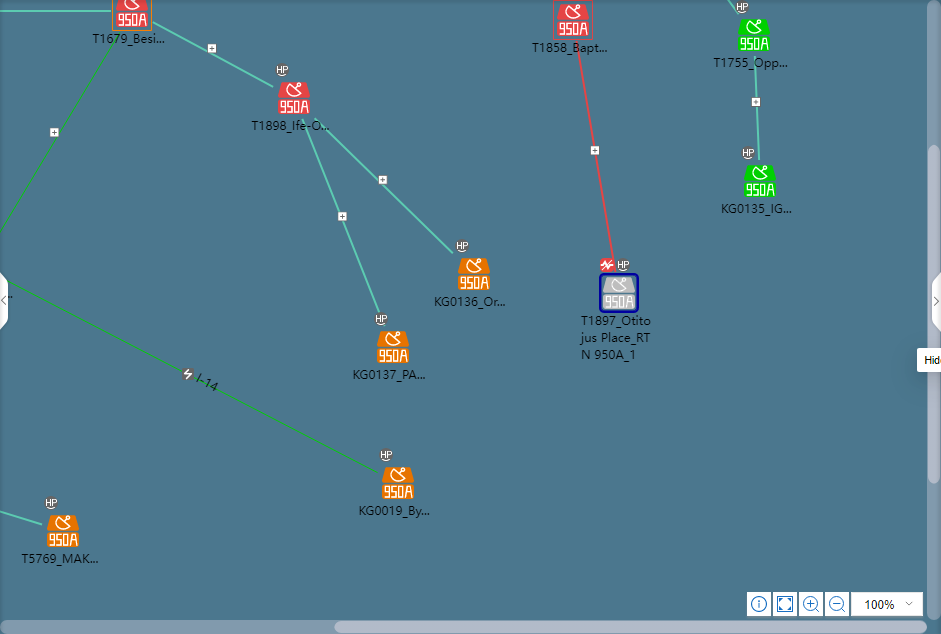Link_Blue: (314, 117, 455, 256), (300, 118, 382, 314), (153, 20, 275, 90), (752, 56, 760, 161), (0, 509, 44, 528), (0, 9, 111, 13)
Link_Green: (9, 278, 378, 475), (0, 32, 122, 238)
Link_Red: (574, 42, 616, 271)
RTN_Gray: (600, 275, 637, 312)
RTN_Green: (744, 165, 775, 197), (738, 19, 769, 50)
RTN_Orange: (382, 468, 413, 500), (377, 332, 408, 363), (458, 259, 489, 290), (47, 517, 78, 548)
RTN_Red: (554, 0, 590, 36), (112, 0, 149, 30), (278, 82, 309, 114)
